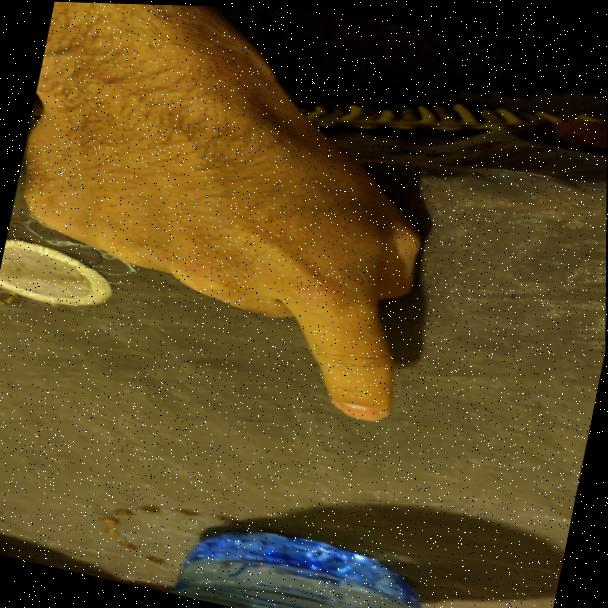one: (0, 12, 470, 441)
